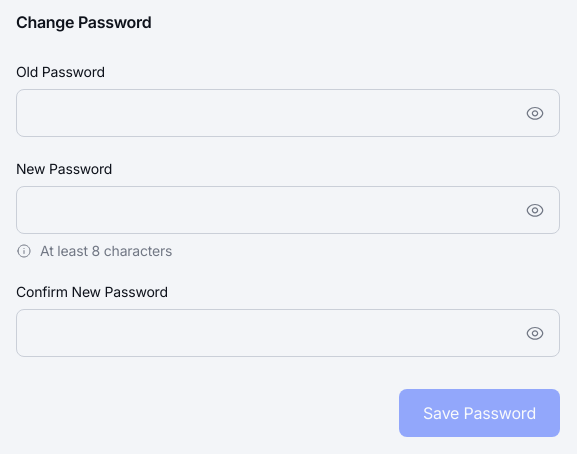
ChangePasswordPage › enables the save button when all password fields are valid
The image size is (577, 454).
In the password field labelled "Old Password": {"x": 264, "y": 113} 17,101 -> 511,125, type "old-password"
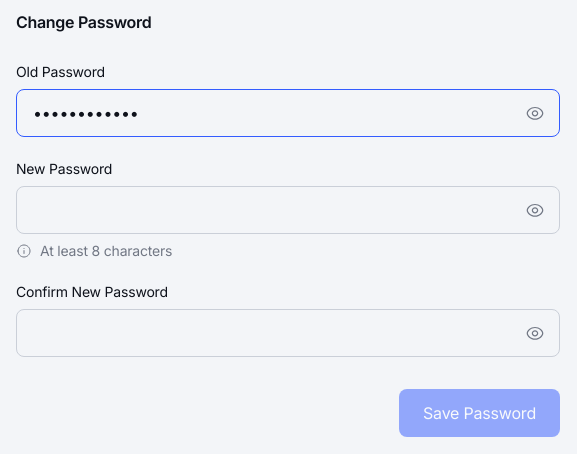
In the password field labelled "New Password": {"x": 264, "y": 210} 17,198 -> 511,222, type "new-password"
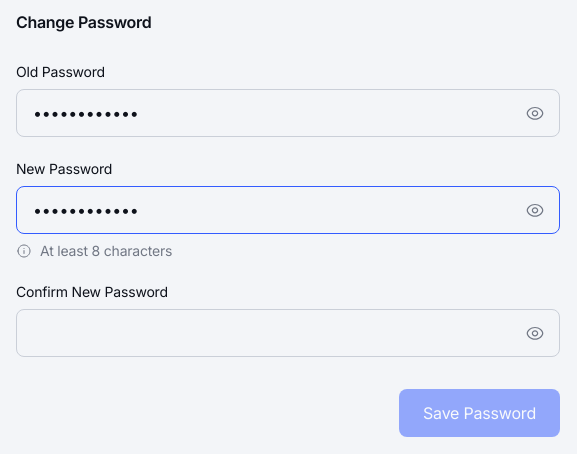
In the password field labelled "Confirm New Password": {"x": 264, "y": 333} 17,321 -> 511,345, type "new-password"
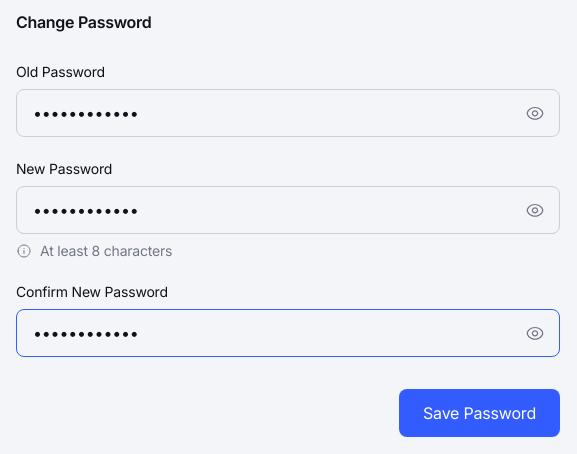
Expected: the button "Save Password" is enabled, 399,389 -> 560,437
